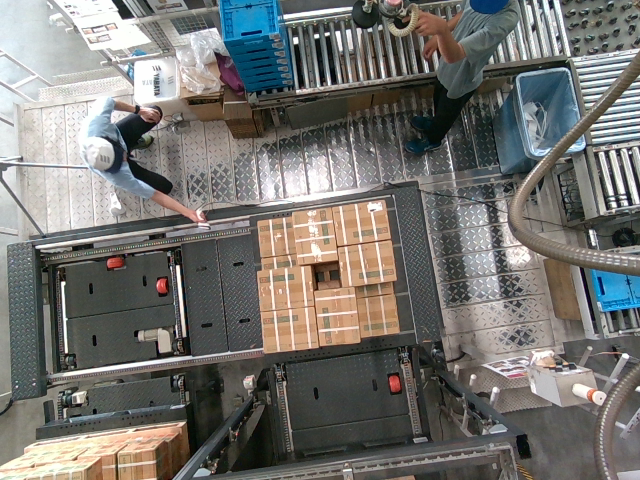box: (253, 268, 313, 311), (259, 308, 319, 351), (336, 243, 396, 286), (332, 202, 392, 245), (293, 210, 337, 263), (313, 289, 357, 342)
